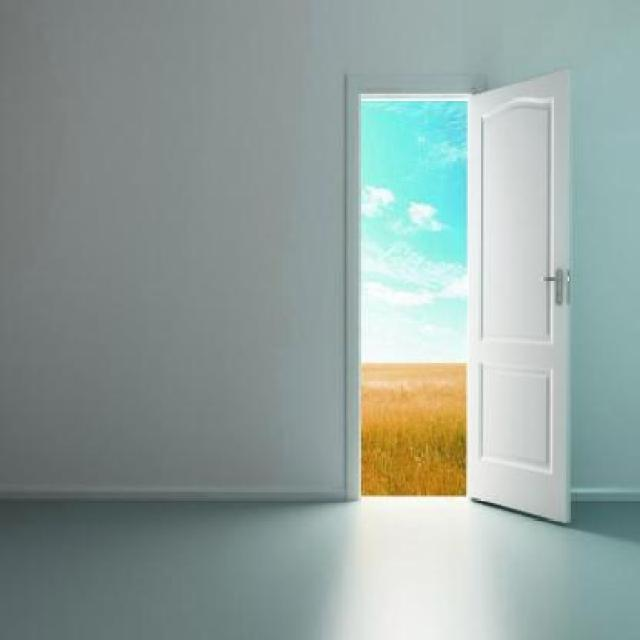door_handle: (530, 270, 566, 287)
